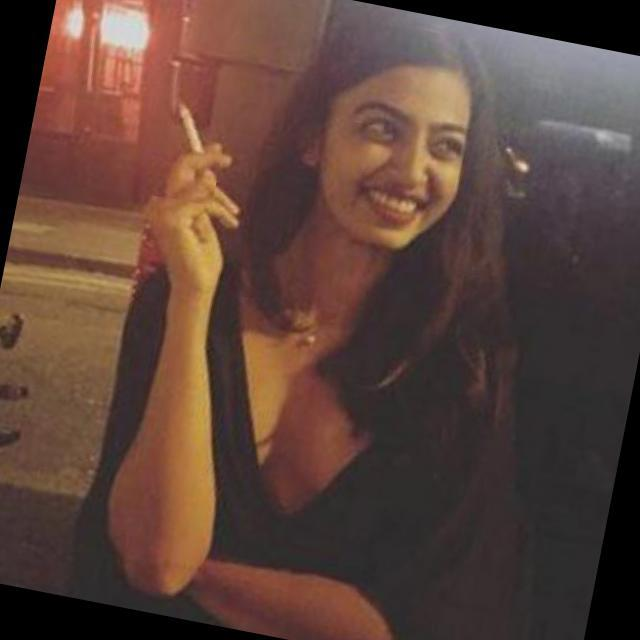cigarette: (141, 80, 234, 208)
